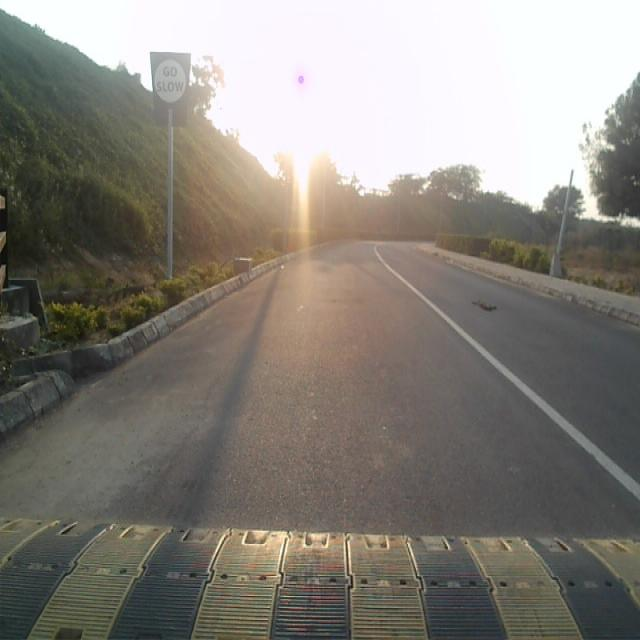lane: (0, 242, 640, 640)
